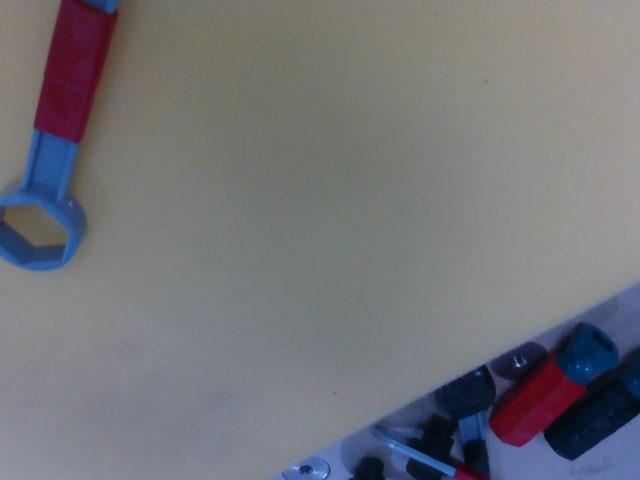part_1_good: (366, 409, 493, 479)
